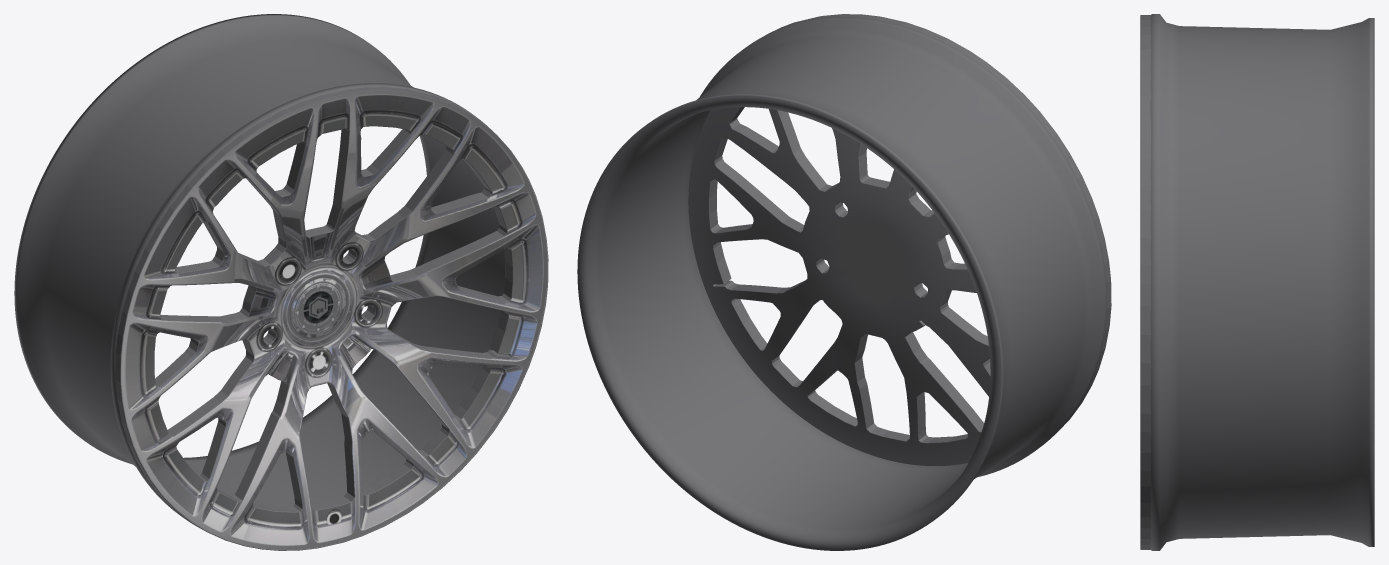
The model's file is e6-monoblock-cf7m.glb.
3 renders of one model, left to right at view 1: azimuth 30°, elevation 25°; view 2: azimuth 150°, elevation 25°; view 3: azimuth 270°, elevation 25°, orthographic. The views are drawn at different scales.
Visible parts, largest first — view 1: Photo_traced_face_0, Approximate_rear_barrel; view 2: Approximate_rear_barrel, Photo_traced_face_0; view 3: Approximate_rear_barrel, Photo_traced_face_0.
Part boxes in pixels (box(x1,y1,x2,y2)): Photo_traced_face_0: box(115, 87, 548, 550); Approximate_rear_barrel: box(14, 14, 504, 529); Approximate_rear_barrel: box(577, 17, 1107, 550); Photo_traced_face_0: box(688, 14, 1111, 465); Approximate_rear_barrel: box(1150, 14, 1374, 550); Photo_traced_face_0: box(1140, 15, 1150, 549).
Bounding box in the file's own units: 2.06 × 2.06 × 0.9.
Materials: 2 (1 with a texture image).
